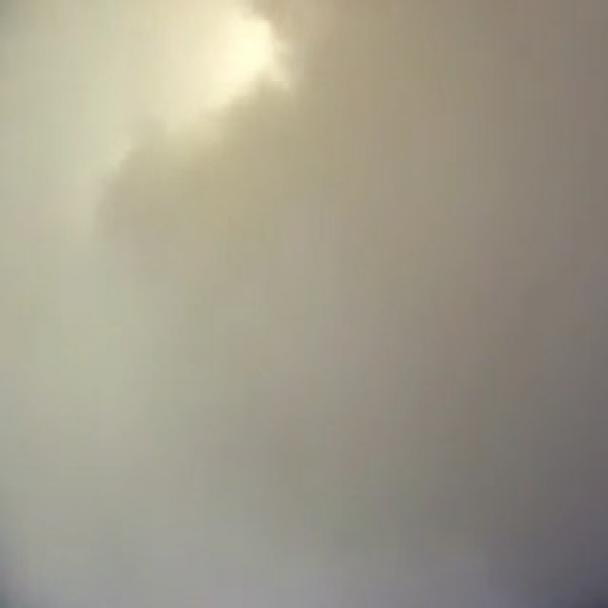smoke: (2, 0, 607, 606)
